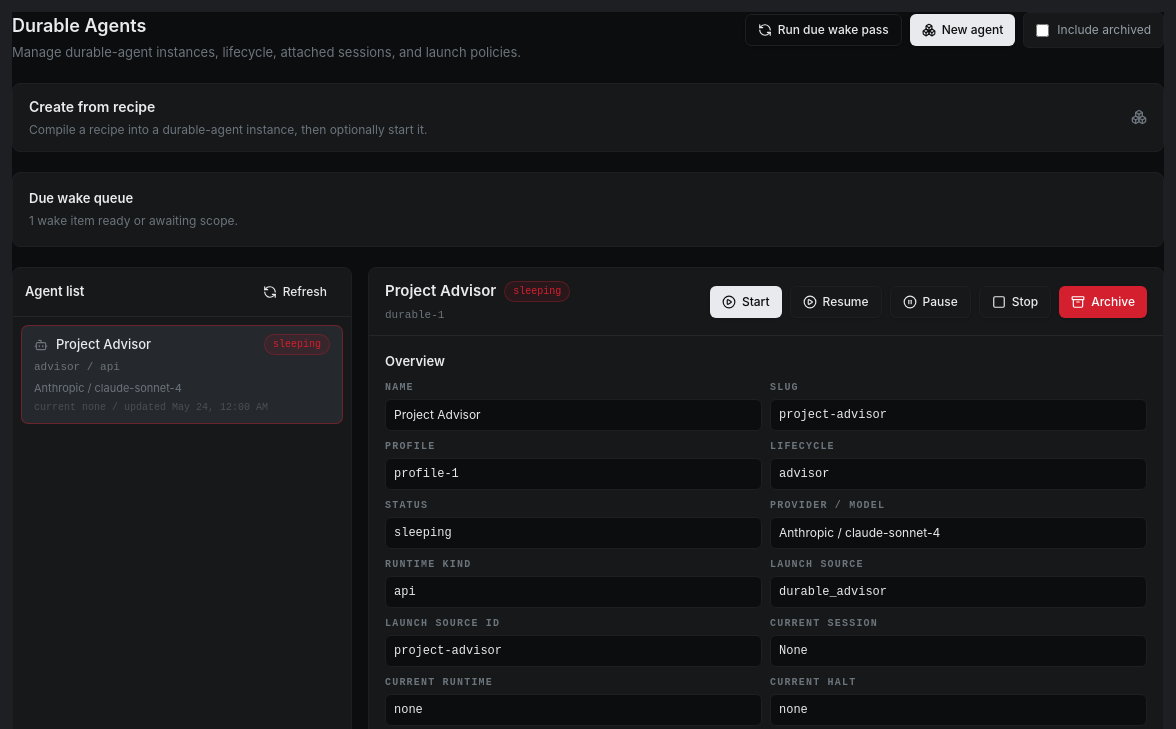
Test: DurableAgentAdminPanel › renders lifecycle mutation errors inline
Click the button with aria-label "Resume durable agent" at (836, 302), box x1=790 y1=286 x2=882 y2=318
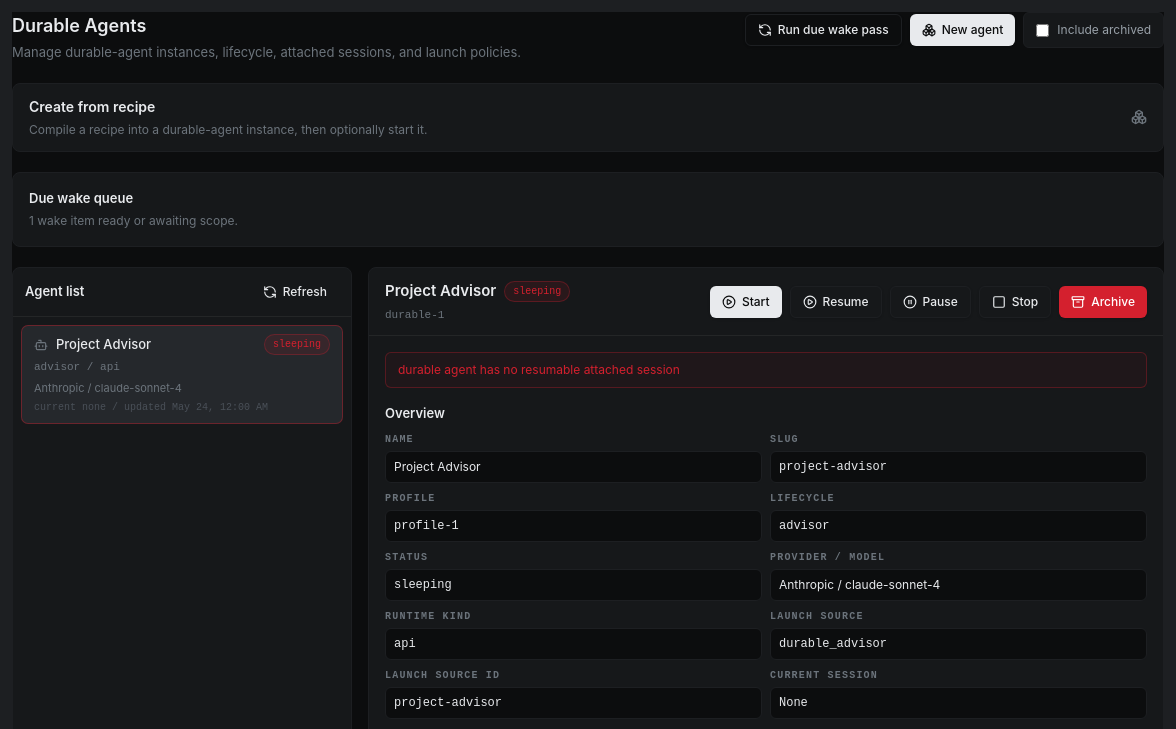
expect the text "durable agent has no resumable attached session" is shown: met, box x1=385 y1=352 x2=1147 y2=388
